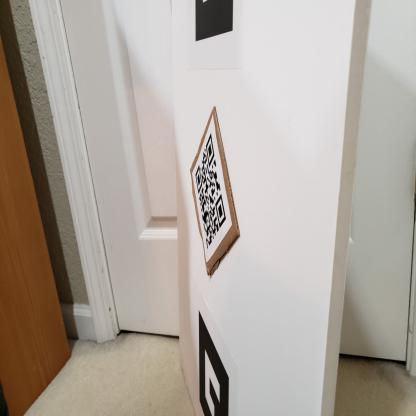qr: (188, 130, 237, 254)
